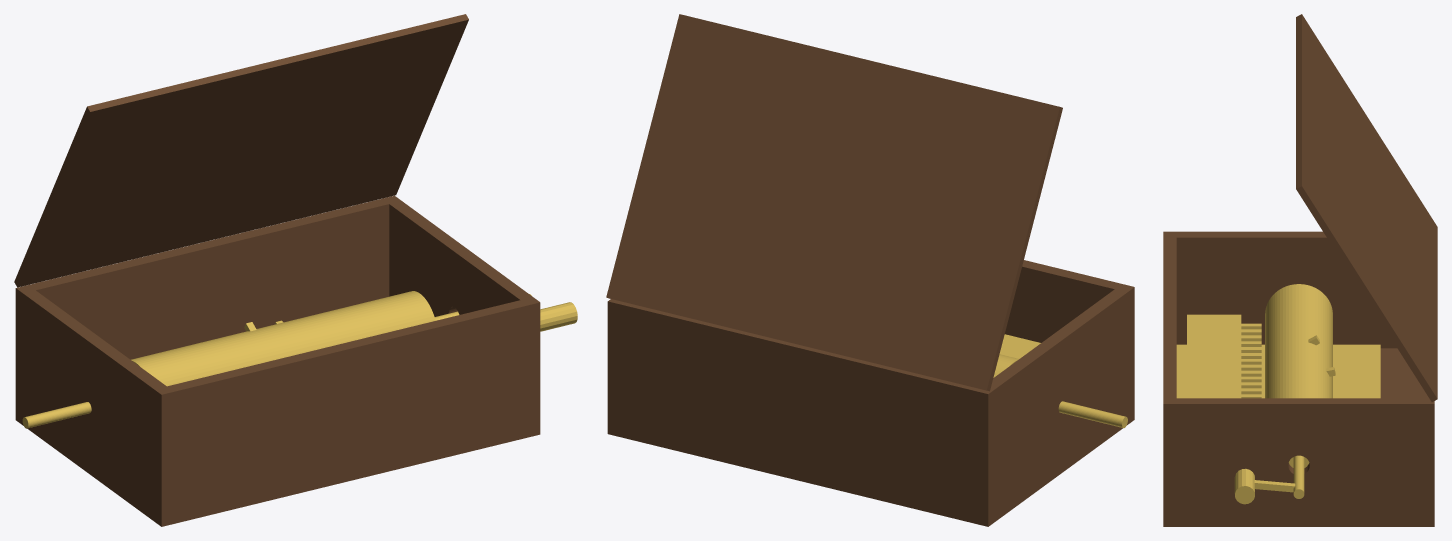
Rendered from lab4.fbx.
3 renders of one model, left to right at view 1: azimuth 30°, elevation 25°; view 2: azimuth 150°, elevation 25°; view 3: azimuth 270°, elevation 25°, orthographic. The views are drawn at different scales.
Parts seen in each view (by area): view 1: MusicBox_Base, MusicBox_Lid, Mechanism_Drum, Main_Axle, Handle_Grip; view 2: MusicBox_Lid, MusicBox_Base, Main_Axle, Mechanism_Comb_Base; view 3: MusicBox_Base, MusicBox_Lid, Mechanism_Drum, Mechanism_Comb_Base, Mechanism_Baseplate, Handle_Grip, Main_Axle, Handle_Arm.
Boxes of the visible parts, bbox=[...] form: MusicBox_Base: bbox=[15, 195, 540, 526]; MusicBox_Lid: bbox=[14, 14, 468, 287]; Mechanism_Drum: bbox=[131, 291, 435, 386]; Main_Axle: bbox=[22, 294, 531, 428]; Handle_Grip: bbox=[540, 302, 577, 331]; MusicBox_Lid: bbox=[606, 14, 1062, 391]; MusicBox_Base: bbox=[607, 260, 1134, 526]; Main_Axle: bbox=[1058, 401, 1127, 427]; Mechanism_Comb_Base: bbox=[999, 334, 1040, 358]; MusicBox_Base: bbox=[1163, 231, 1434, 526]; MusicBox_Lid: bbox=[1296, 14, 1437, 401]; Mechanism_Drum: bbox=[1265, 284, 1332, 467]; Mechanism_Comb_Base: bbox=[1187, 314, 1241, 398]; Mechanism_Baseplate: bbox=[1176, 344, 1380, 398]; Handle_Grip: bbox=[1234, 468, 1254, 504]; Main_Axle: bbox=[1293, 455, 1304, 498]; Handle_Arm: bbox=[1254, 480, 1295, 492].
Bounding box in the file's own units: 820 × 554 × 404.
